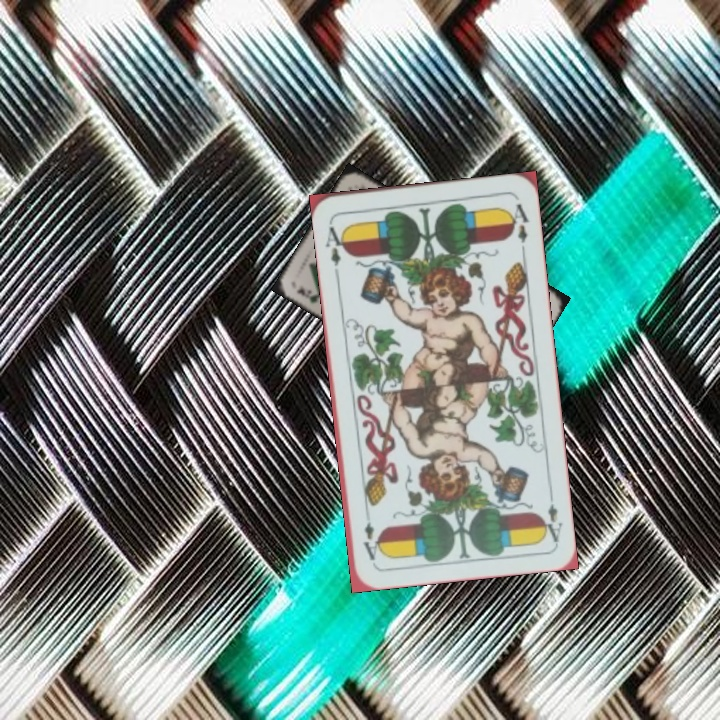EA: (537, 486, 565, 545), (321, 217, 349, 269)
GK: (293, 284, 329, 306)
